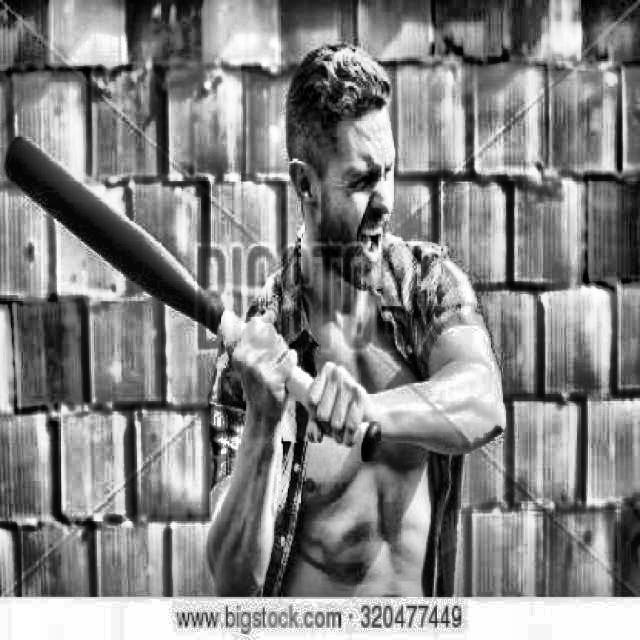tongkat pemukul: (2, 128, 410, 471)
